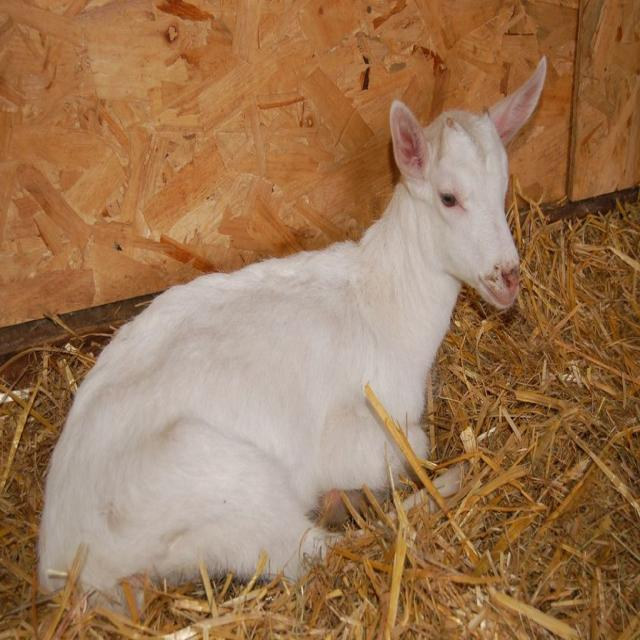Goat: (36, 54, 547, 618)
